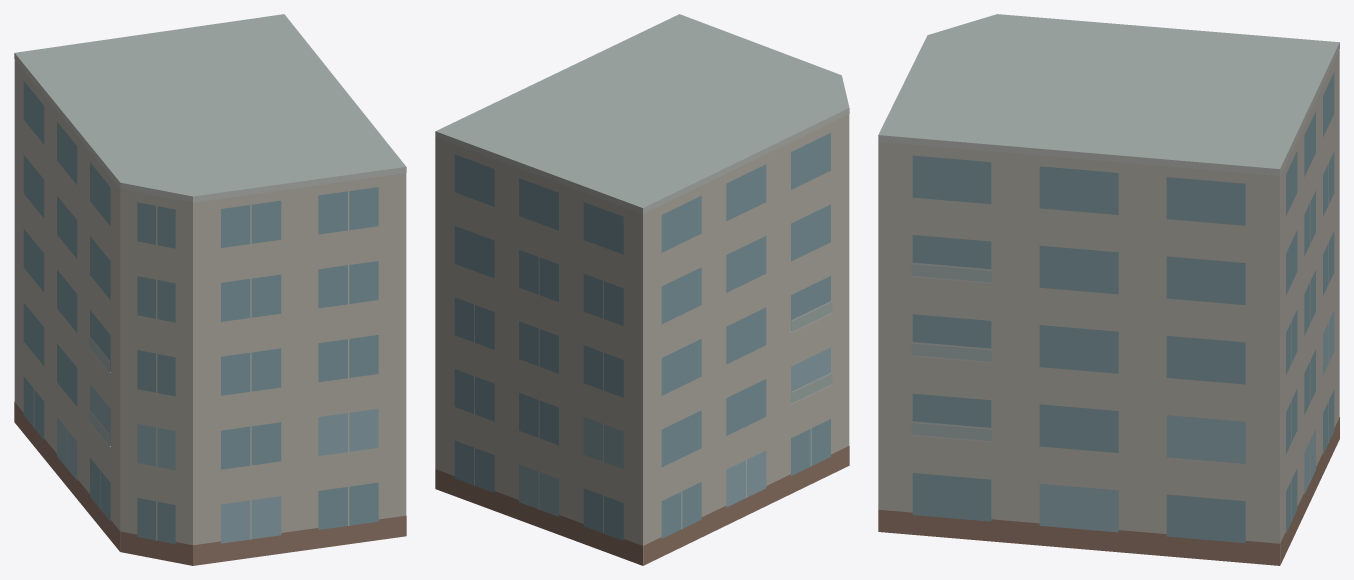
Rendered from survey-upis-32985722.glb.
3 renders of one model, left to right at view 1: azimuth 30°, elevation 25°; view 2: azimuth 150°, elevation 25°; view 3: azimuth 270°, elevation 25°, orthographic. The views are drawn at different scales.
Parts seen in each view (by area): view 1: survey-upis-32985722.tmp; view 2: survey-upis-32985722.tmp; view 3: survey-upis-32985722.tmp.
Part boxes in pixels (x1,y1,x2,y2): survey-upis-32985722.tmp: (14, 14, 406, 565); survey-upis-32985722.tmp: (435, 14, 849, 565); survey-upis-32985722.tmp: (878, 14, 1339, 565).
Bounding box in the file's own units: 12.21 × 14.55 × 15.35.
